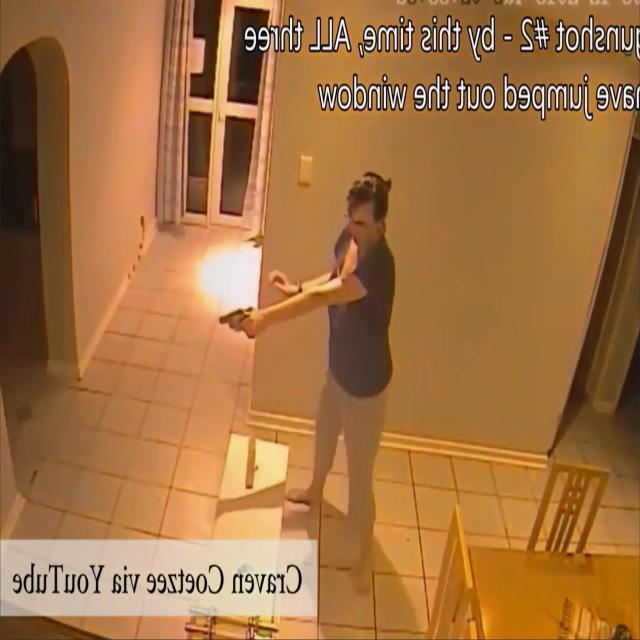Gun: (218, 306, 257, 339)
